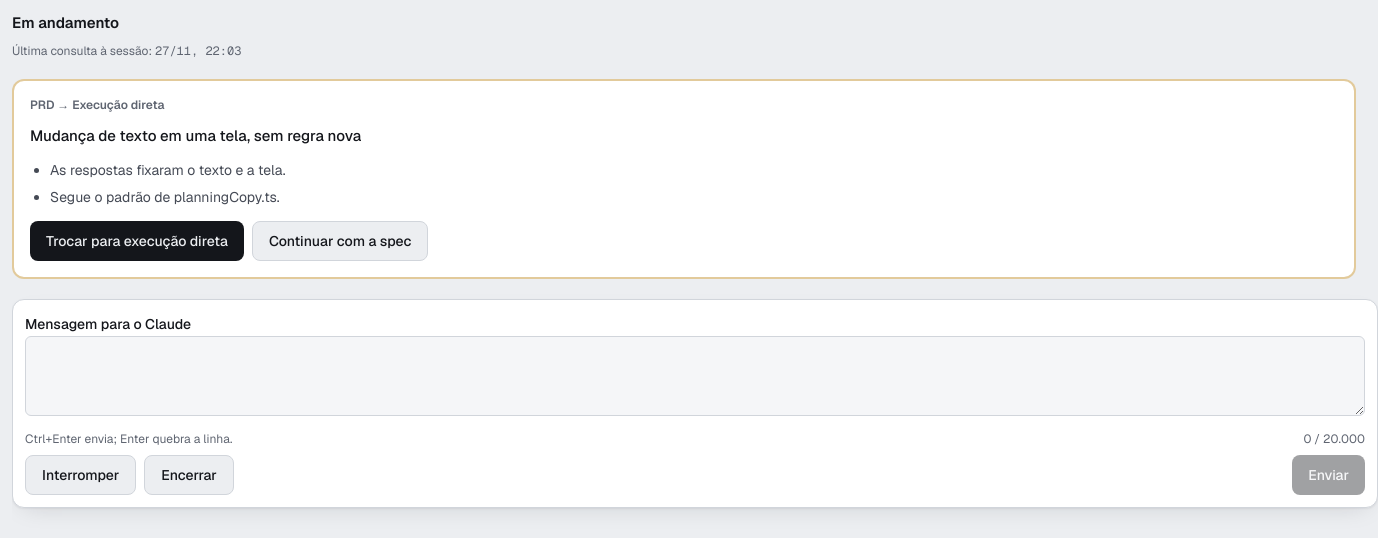
Test: SessionConversation route switch › V-08g shows the conflict message, reloads the timeline and shows the state it returns when the proposal was already decided
The image size is (1378, 538).
Click the button "Trocar para execução direta" at [137, 240], box [30,220,244,260]
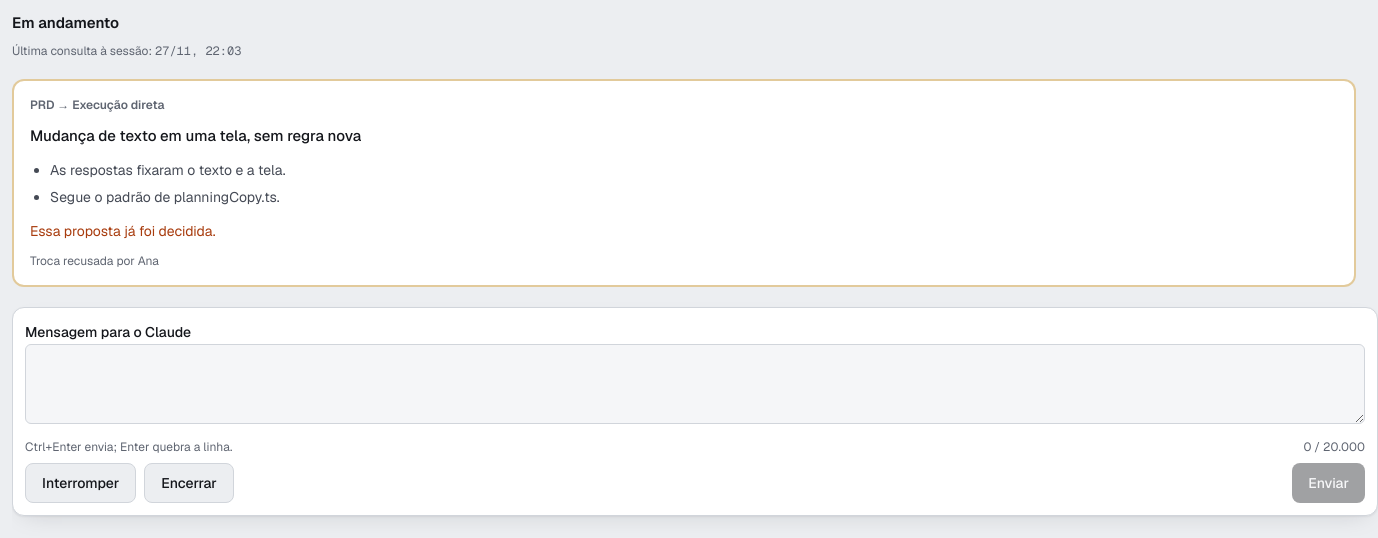
Check: the message reads "Essa proposta já foi decidida.", box [30,222,216,240]
Check: the text "Troca recusada por Ana" is shown, box [30,252,159,268]
Check: the button "Trocar para execução direta" is gone
